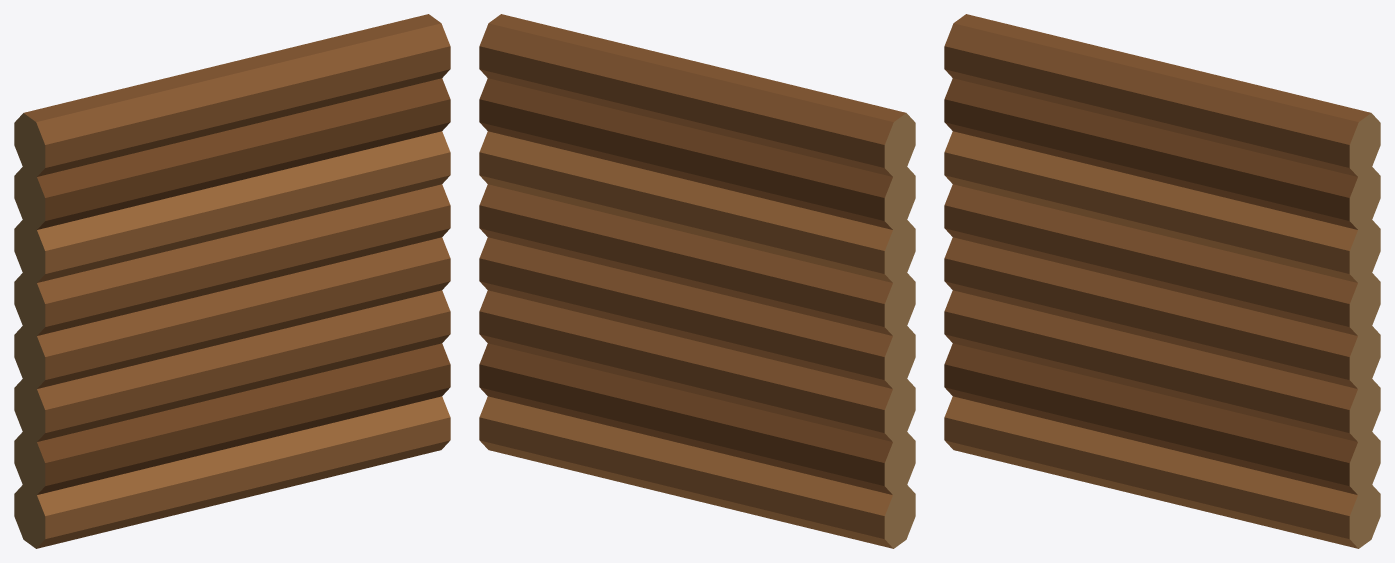
Rendered from piece_wall_voxel.fbx.
3 renders of one model, left to right at view 1: azimuth 30°, elevation 25°; view 2: azimuth 150°, elevation 25°; view 3: azimuth 330°, elevation 25°, orthographic.
Visible parts, largest first — view 1: piece_wall_voxel; view 2: piece_wall_voxel; view 3: piece_wall_voxel.
Boxes of the visible parts, box(x1,y1,x2,y2) form: piece_wall_voxel: box(14, 14, 450, 548); piece_wall_voxel: box(479, 14, 915, 548); piece_wall_voxel: box(944, 14, 1380, 548).
Bounding box in the file's own units: 2 × 2.01 × 0.2624.
